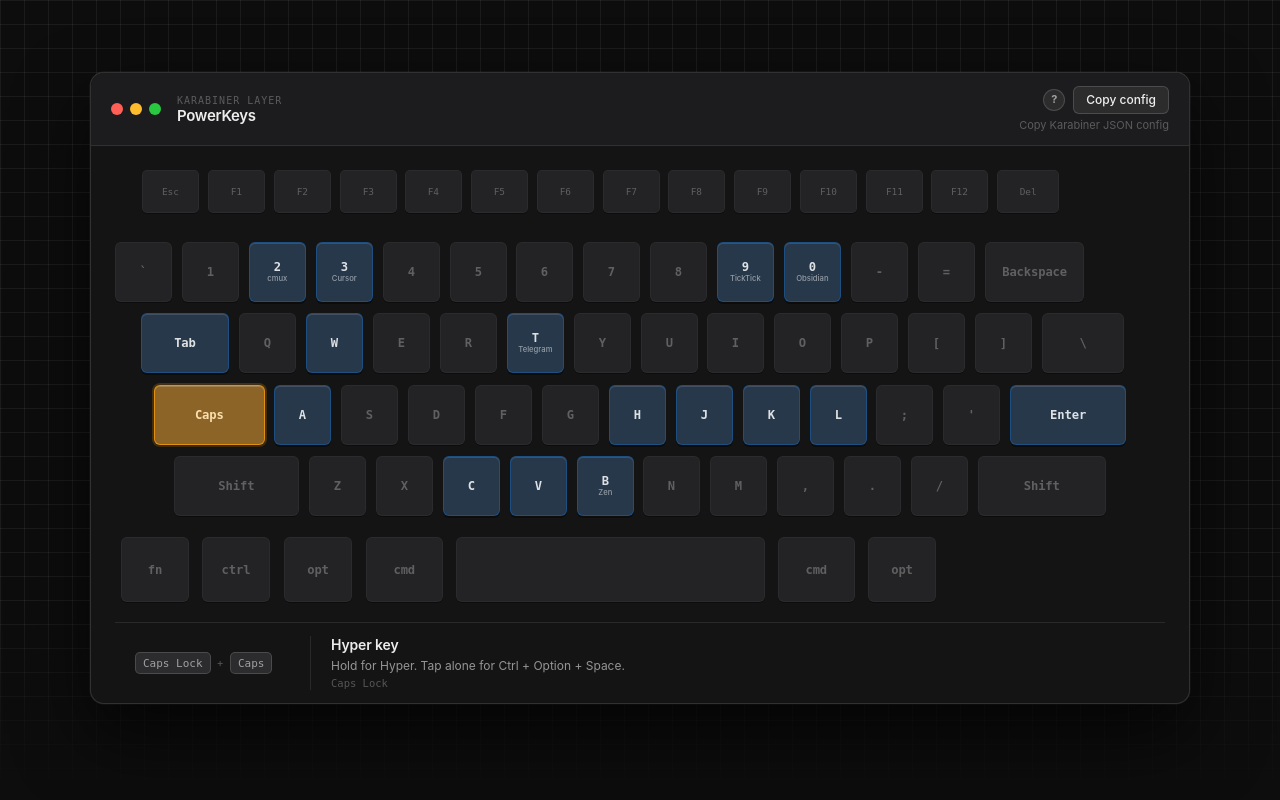
Test case: App › updates the active shortcut when a key receives focus
Focus the button with aria-label "Hyper + T does Open Telegram" at (535, 344), box [507,314,564,374]
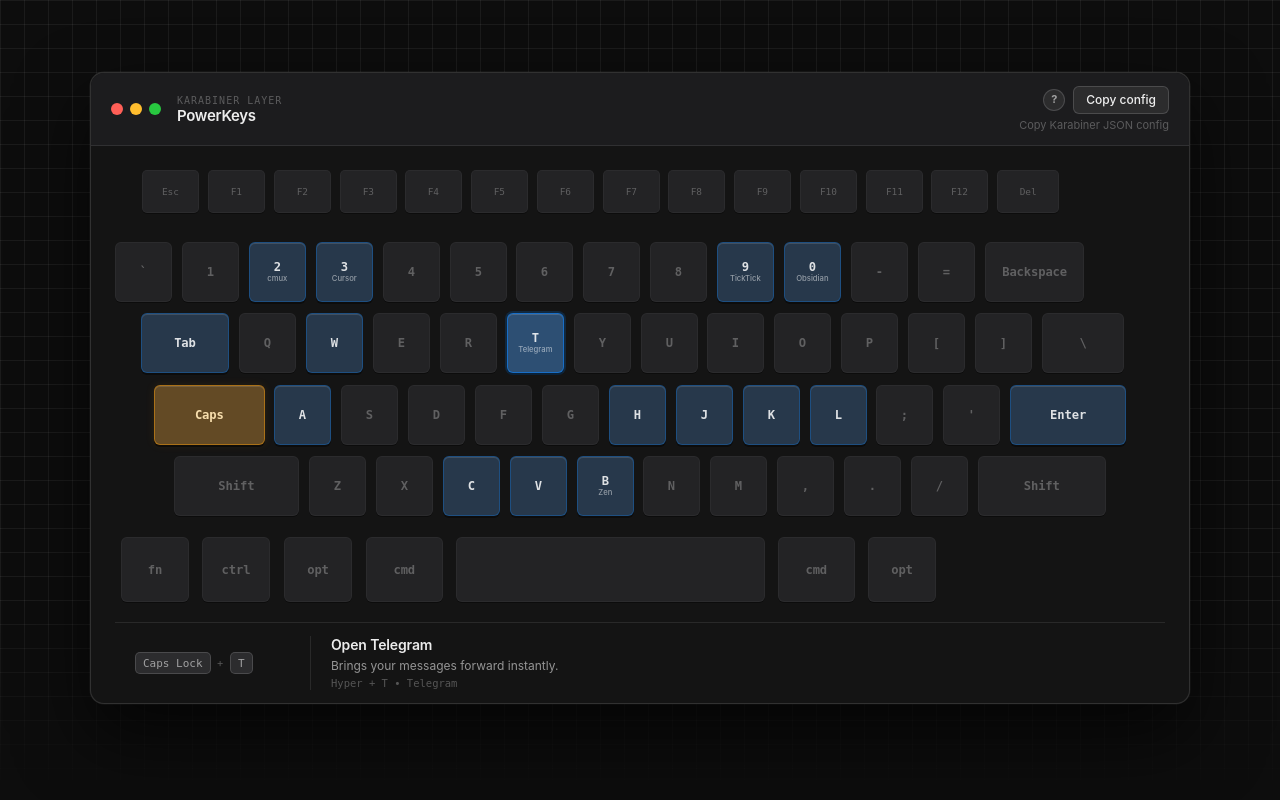
expect the heading "Open Telegram" is shown: met, box [331,636,432,653]
expect the text "Hyper + T • Telegram" is shown: met, box [331,677,458,689]
